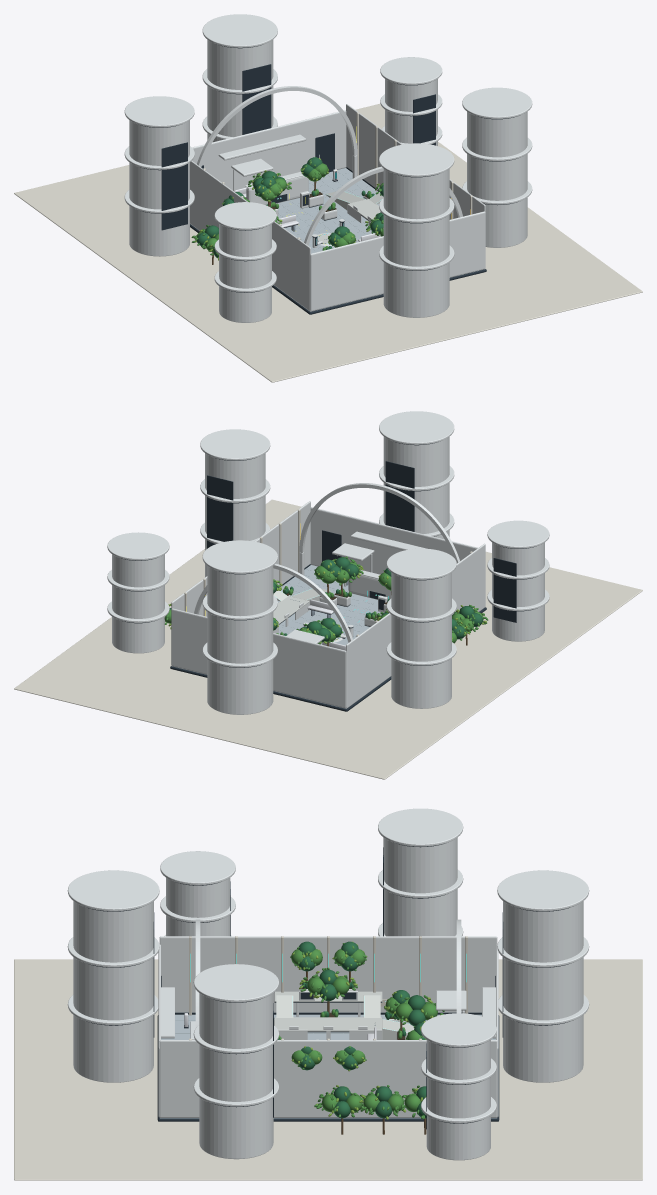
The model's file is GardenCircuit.glb.
3 views of the same model, one above another, from view 1: azimuth 30°, elevation 25°; view 2: azimuth 150°, elevation 25°; view 3: azimuth 270°, elevation 25° (orthographic). The views are drawn at different scales.
Visible parts, largest first — view 1: MAP • Skyline, MAP • Architecture, MAP • Ground, MAP • Planting, MAP • Roof canopies • hide for tactical review, MAP • Traversal, MAP • Spawn docks, MAP • Props; view 2: MAP • Skyline, MAP • Architecture, MAP • Planting, MAP • Roof canopies • hide for tactical review, MAP • Ground, MAP • Traversal, MAP • Spawn docks, MAP • Props; view 3: MAP • Skyline, MAP • Architecture, MAP • Planting, MAP • Traversal, MAP • Roof canopies • hide for tactical review, MAP • Ground.
Boxes of the visible parts, x1,y1,x2,y2 form: MAP • Skyline: (14, 14, 642, 382); MAP • Architecture: (190, 104, 485, 311); MAP • Ground: (190, 168, 486, 314); MAP • Planting: (191, 157, 383, 264); MAP • Roof canopies • hide for tactical review: (197, 86, 462, 245); MAP • Traversal: (325, 187, 383, 229); MAP • Spawn docks: (245, 172, 308, 215); MAP • Props: (235, 169, 380, 241); MAP • Skyline: (14, 411, 642, 779); MAP • Architecture: (171, 501, 485, 708); MAP • Planting: (164, 556, 488, 646); MAP • Roof canopies • hide for tactical review: (194, 483, 459, 643); MAP • Ground: (170, 565, 486, 711); MAP • Traversal: (273, 584, 331, 633); MAP • Spawn docks: (348, 569, 391, 612); MAP • Props: (307, 581, 387, 650); MAP • Skyline: (14, 808, 642, 1180); MAP • Architecture: (158, 936, 498, 1117); MAP • Planting: (278, 941, 444, 1134); MAP • Traversal: (274, 990, 414, 1039); MAP • Roof canopies • hide for tactical review: (161, 919, 495, 1039); MAP • Ground: (157, 1014, 499, 1121).
Size of what is drawn, in the model's own units: 68 by 26.04 by 82.
